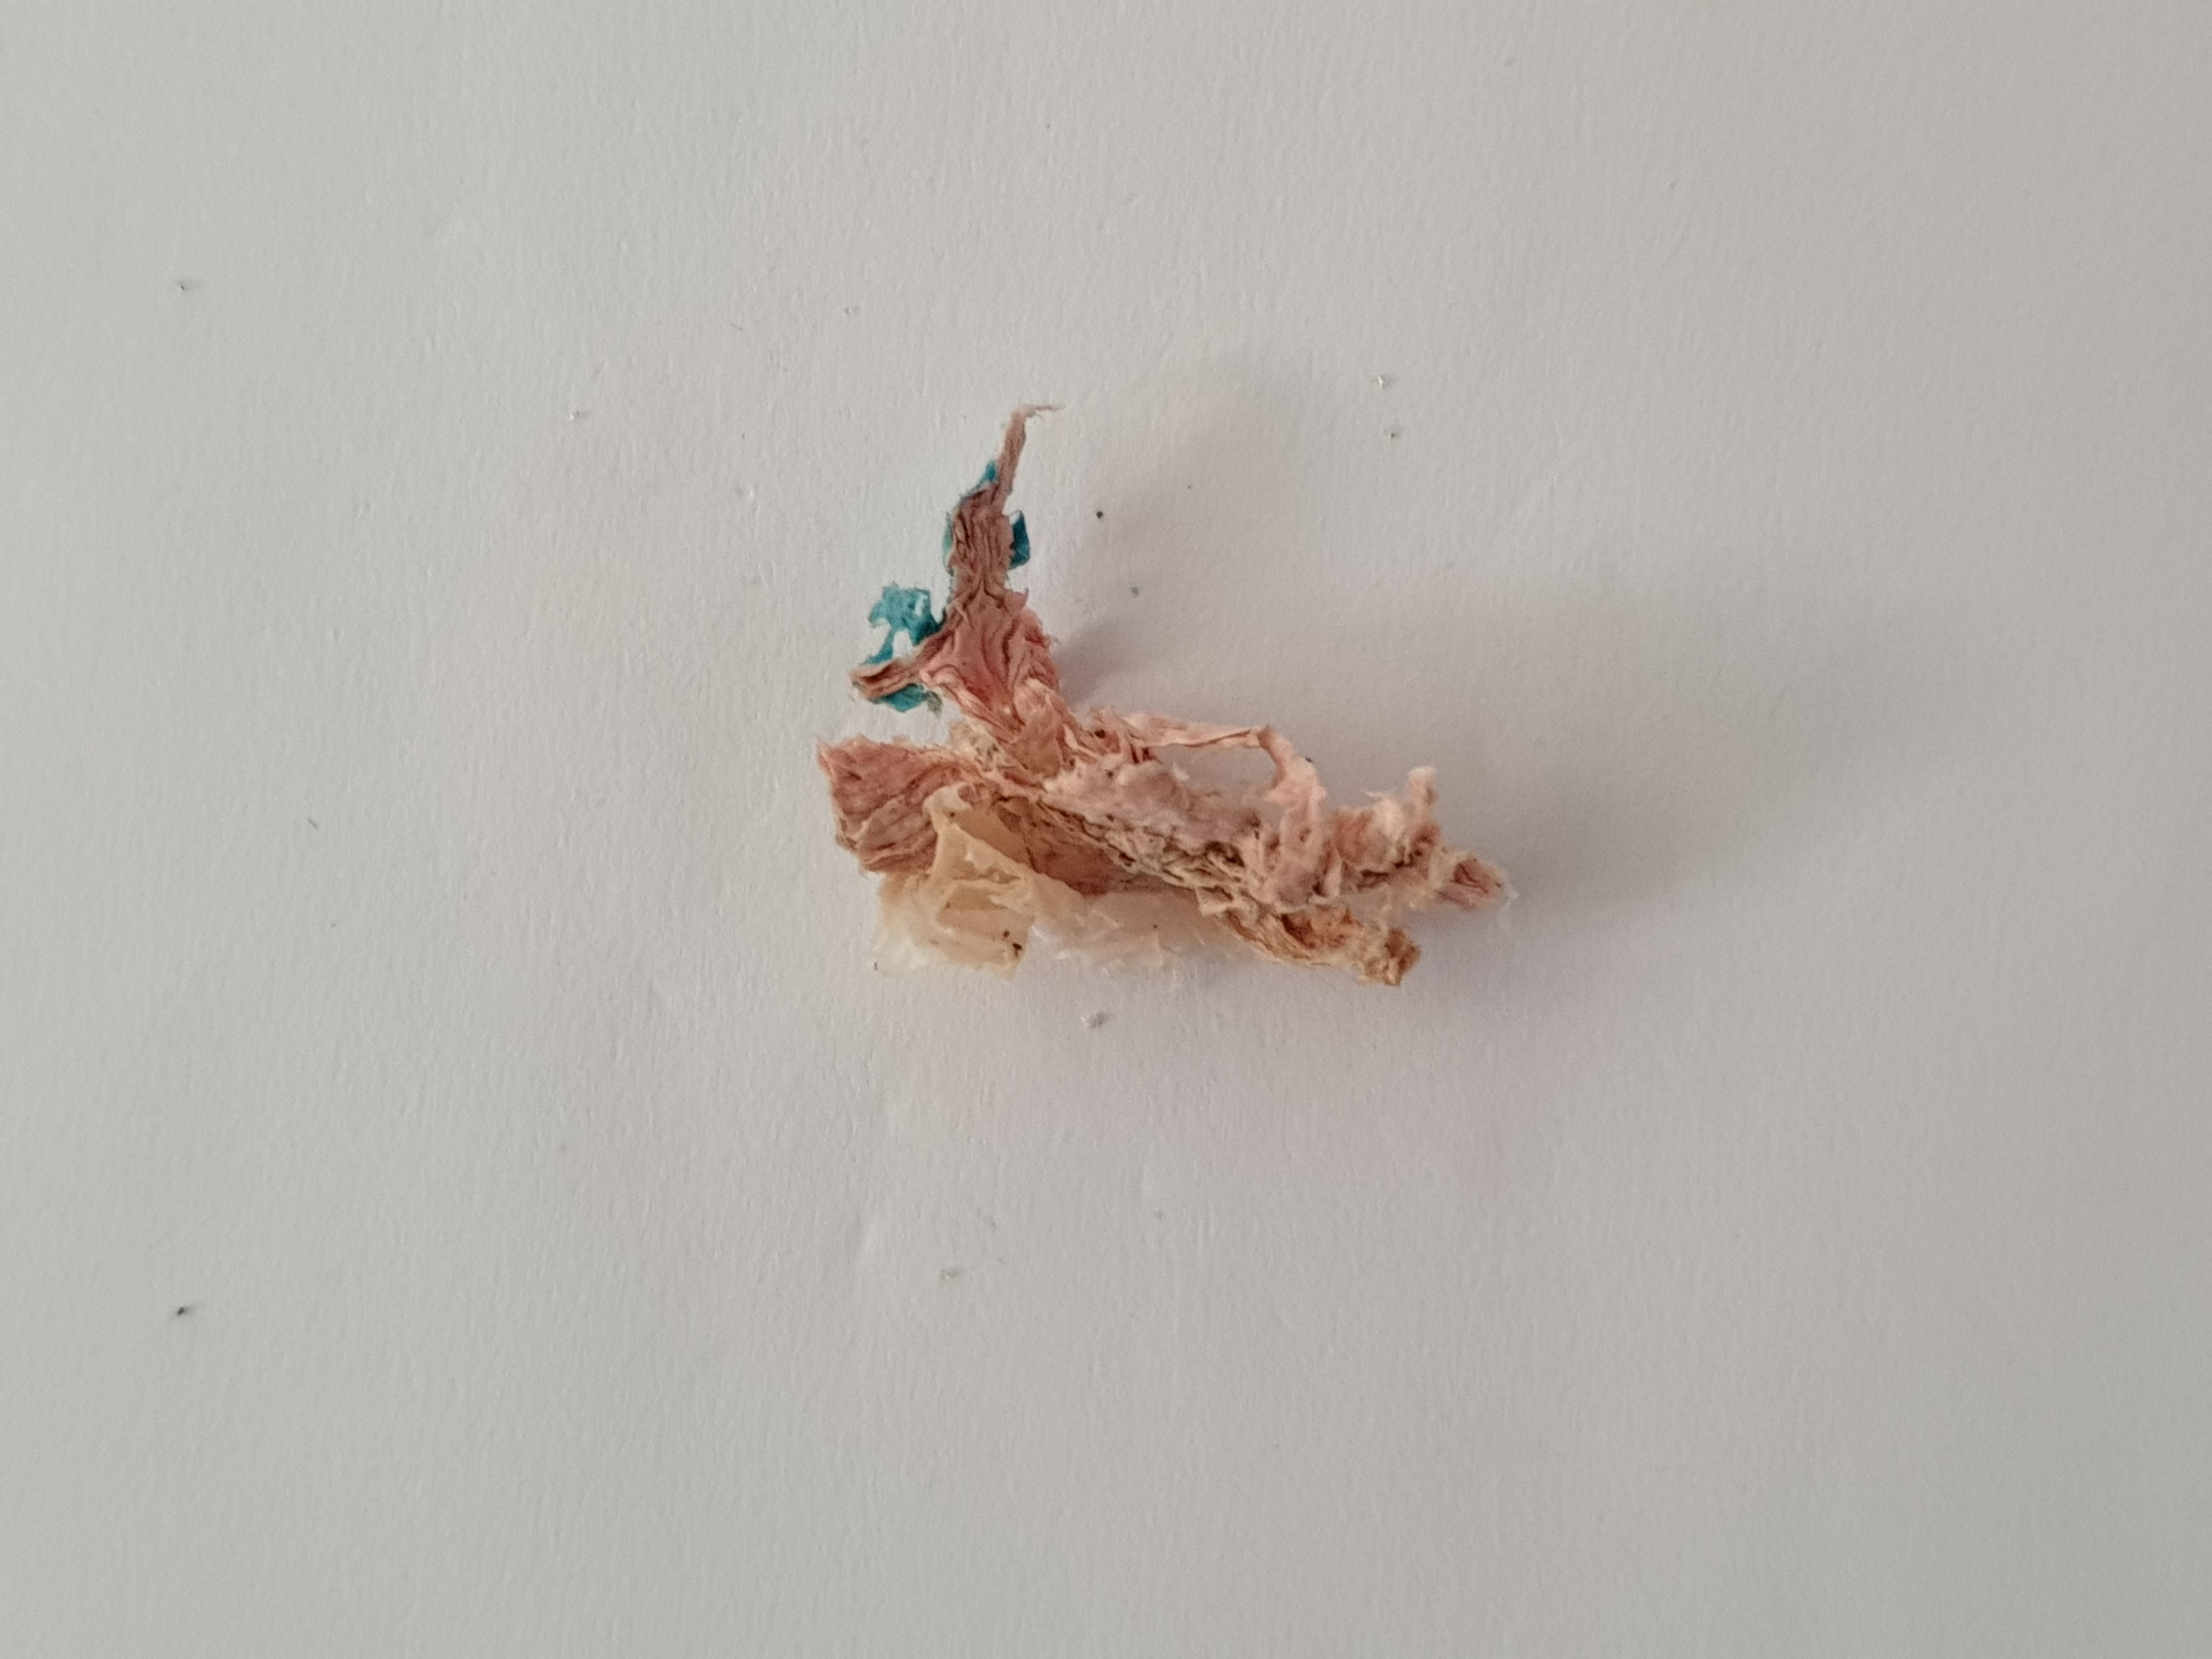plastic: (725, 375, 1538, 1021)
